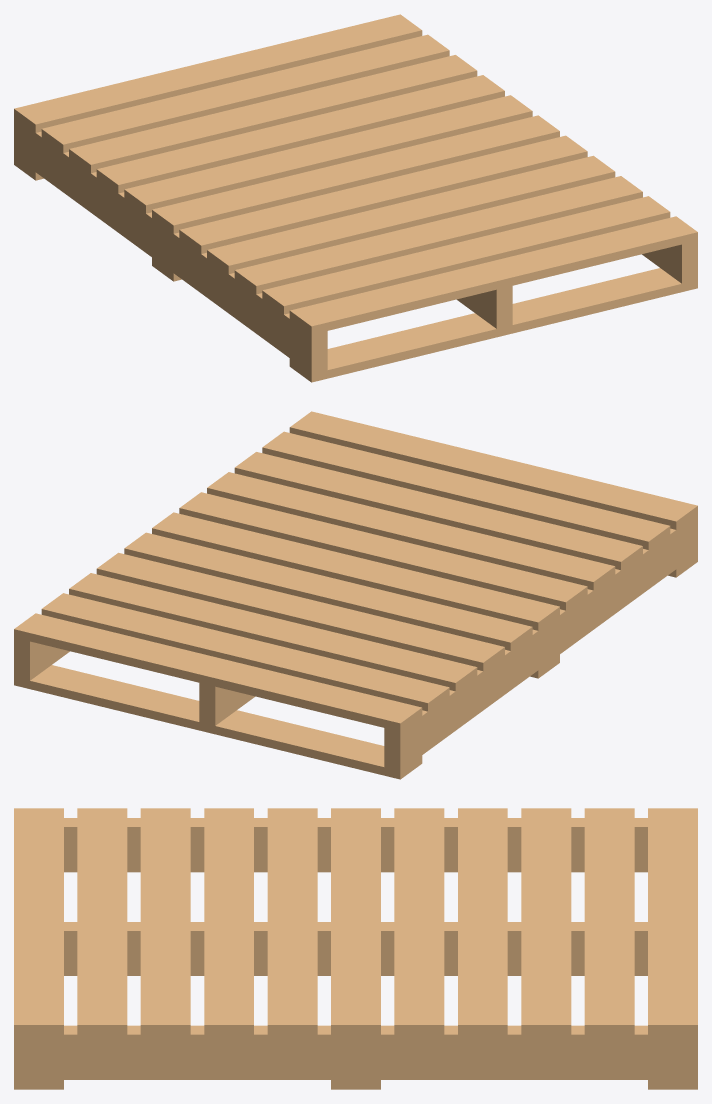
Rendered from Wood-Pallet-1.fbx.
The picture shows the model from 3 angles, top to bottom: view 1: azimuth 30°, elevation 25°; view 2: azimuth 150°, elevation 25°; view 3: azimuth 270°, elevation 25°; orthographic projection. The views are drawn at different scales.
Parts seen in each view (by area): view 1: WoodPallet1; view 2: WoodPallet1; view 3: WoodPallet1.
Boxes of the visible parts, x1=… form: WoodPallet1: x1=14, y1=14, x2=697, y2=382; WoodPallet1: x1=14, y1=411, x2=697, y2=779; WoodPallet1: x1=14, y1=808, x2=697, y2=1089.
Bounding box in the file's own units: 0.9144 × 0.127 × 1.22.
